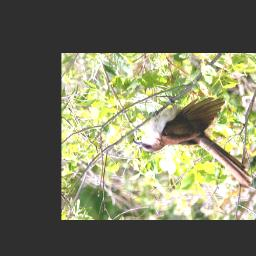Cuckoo: (131, 93, 226, 190)
